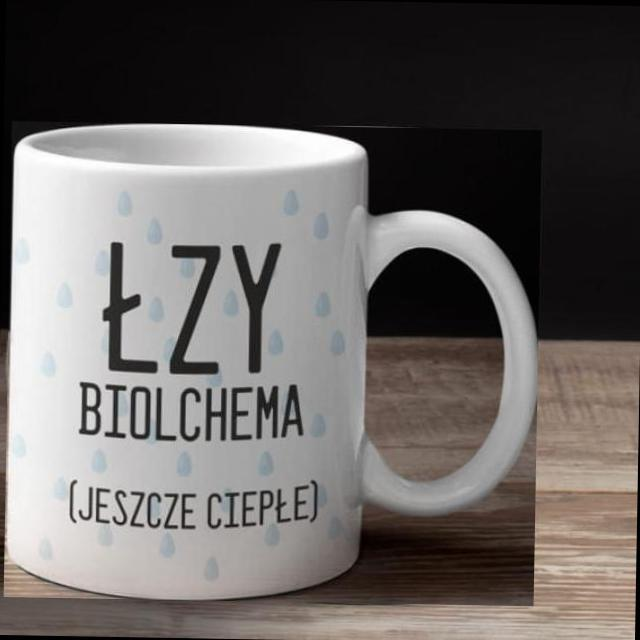taza: (6, 119, 542, 604)
